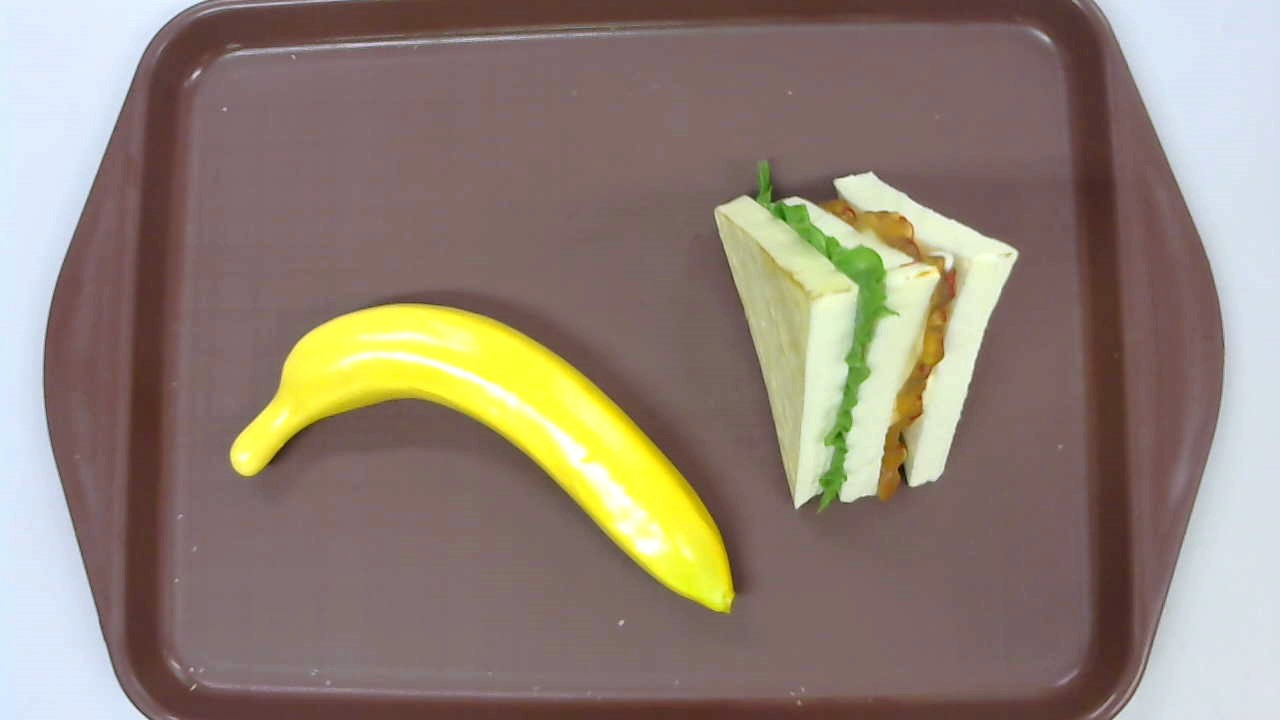banana: (229, 303, 735, 614)
sandwich: (714, 159, 1020, 517)
